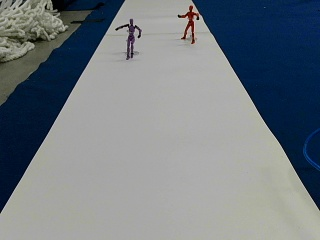pedestrian: (115, 18, 141, 58), (178, 4, 199, 41)
